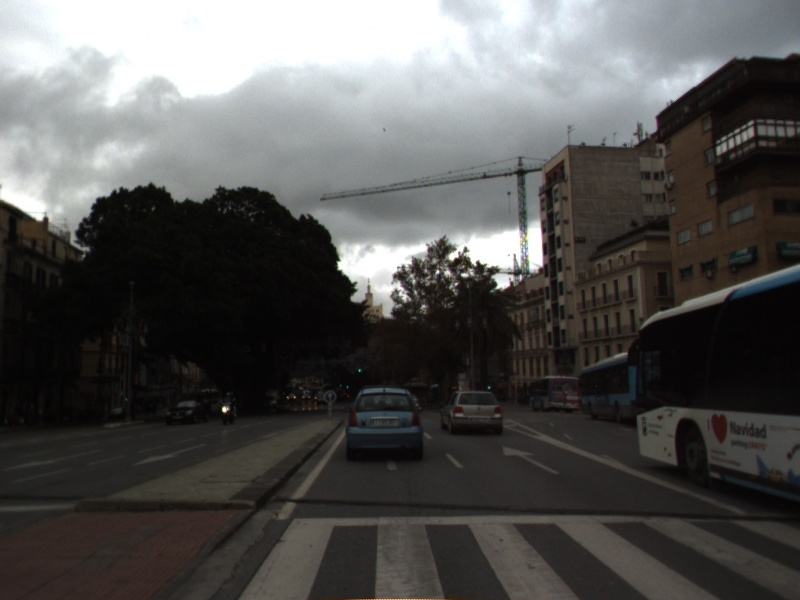STRAIGHT: (500, 444, 563, 476)
